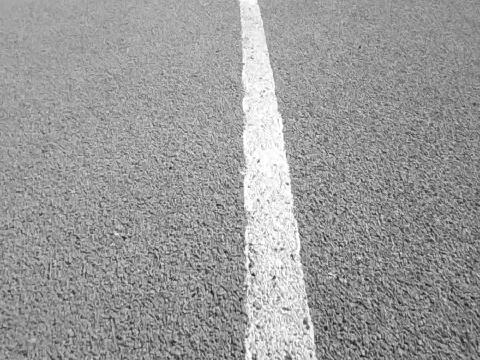Lines: (238, 0, 320, 360)
